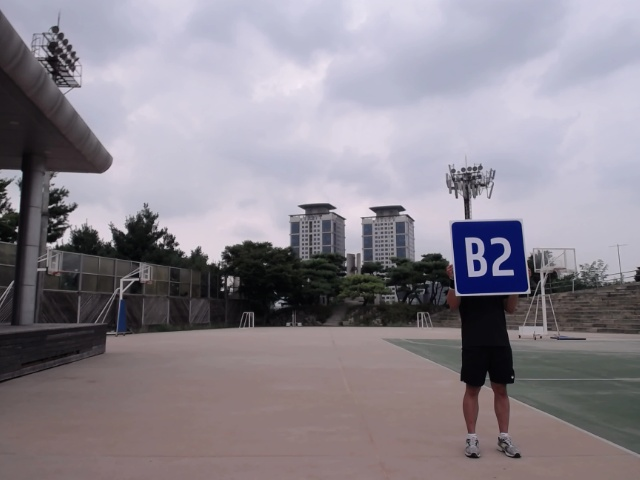delivery_b2: (449, 218, 531, 297)
